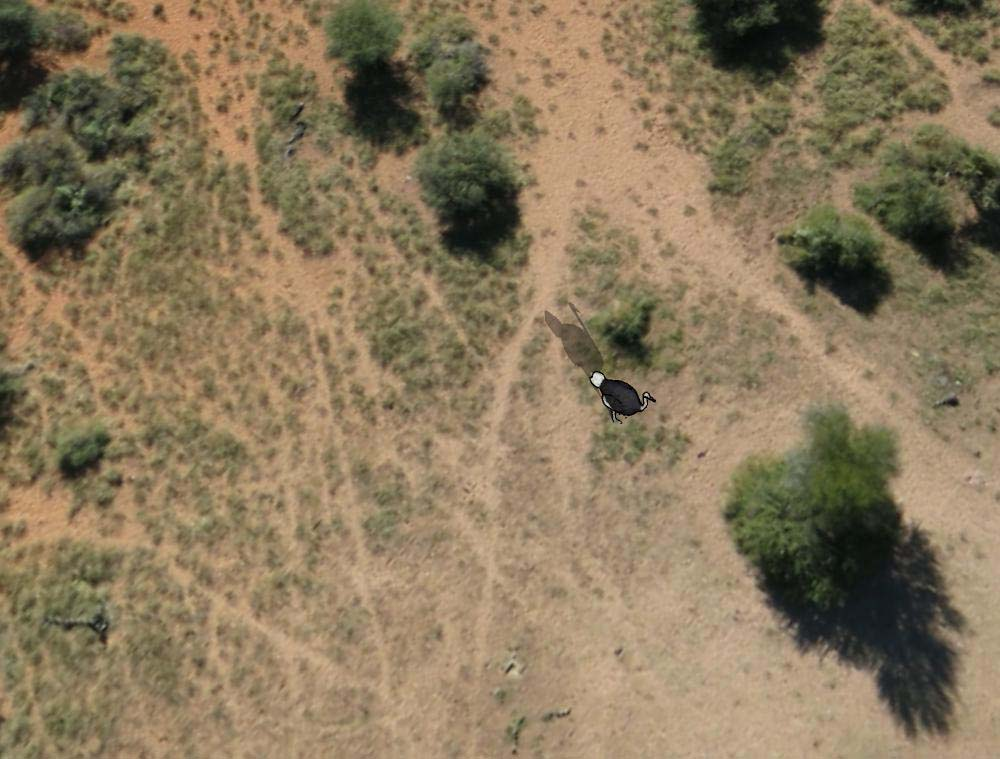ostrich: (583, 369, 657, 426)
